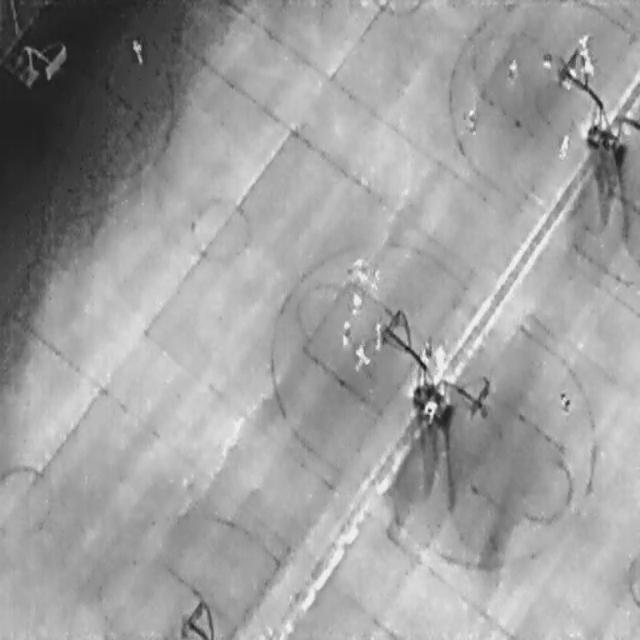Person: (557, 62, 579, 92), (417, 398, 438, 428), (128, 34, 145, 66), (352, 341, 369, 371), (555, 131, 572, 160), (503, 56, 519, 84), (465, 104, 478, 136), (432, 343, 446, 372), (419, 339, 433, 366), (353, 258, 369, 280), (348, 289, 361, 316), (539, 48, 554, 70), (577, 34, 590, 58), (556, 388, 572, 407), (340, 319, 350, 349), (581, 54, 594, 75), (373, 322, 381, 352)
